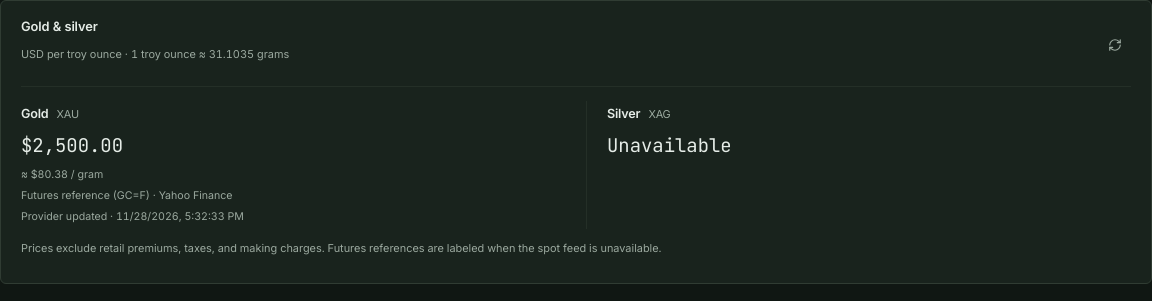
Test: keeps received prices visible when refresh fails and labels their status
Expected: the text "$2,500.00" is shown, x1=21 y1=133 x2=123 y2=158
Expected: the text "≈ $80.38 / gram" is shown, x1=21 y1=168 x2=103 y2=181
Click the button named "Refresh metals" at (1115, 46), box x1=1099 y1=34 x2=1131 y2=58
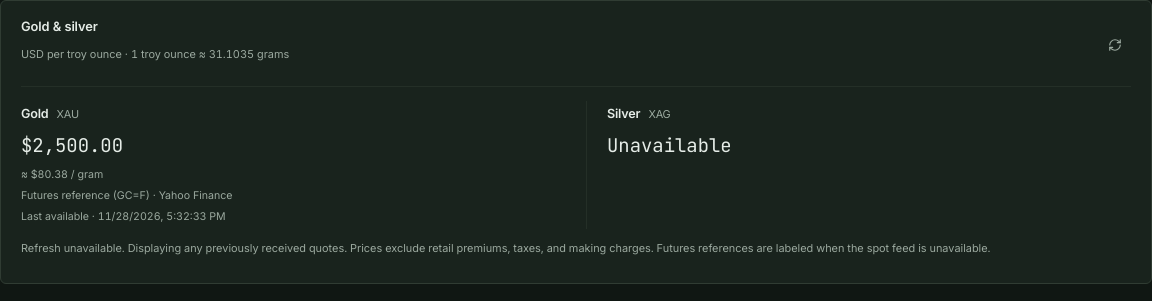
Expected: the text "$2,500.00" is shown, x1=21 y1=133 x2=123 y2=158
Expected: the text "Refresh unavailable" is shown, x1=21 y1=241 x2=350 y2=255
Expected: the text "Last available · 11/28/2026, 5:32:33 PM" is shown, x1=21 y1=210 x2=226 y2=223
